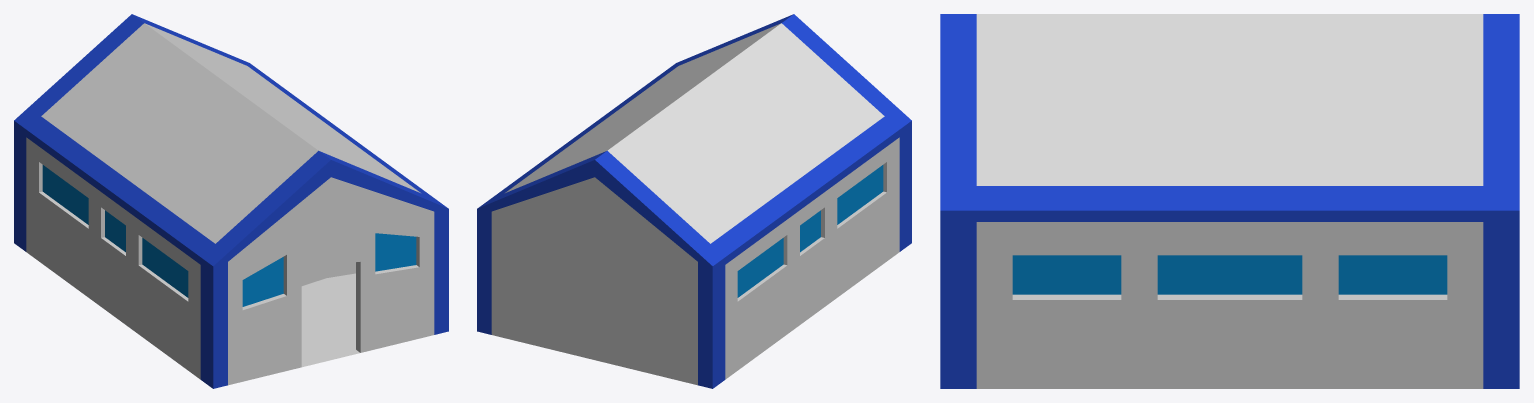
Rendered from docks.fbx.
3 renders of one model, left to right at view 1: azimuth 30°, elevation 25°; view 2: azimuth 150°, elevation 25°; view 3: azimuth 270°, elevation 25°, orthographic. The views are drawn at different scales.
Parts seen in each view (by area): view 1: Cube; view 2: Cube; view 3: Cube.
Part boxes in pixels (box(x1,y1,x2,y2)): Cube: box(14, 14, 448, 388); Cube: box(477, 14, 911, 388); Cube: box(940, 14, 1519, 388).
Size of the model in its own units: 2782 by 2259 by 4070.
